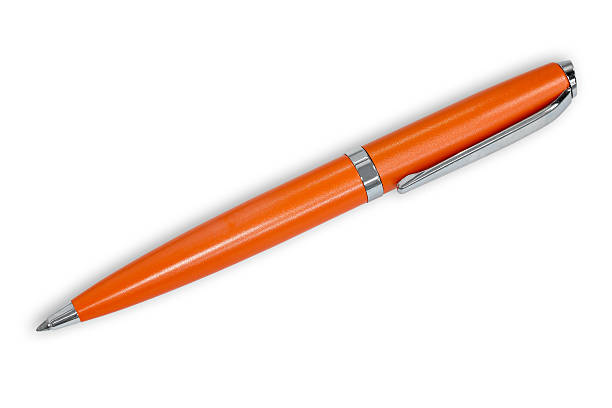pen: (29, 51, 584, 344)
